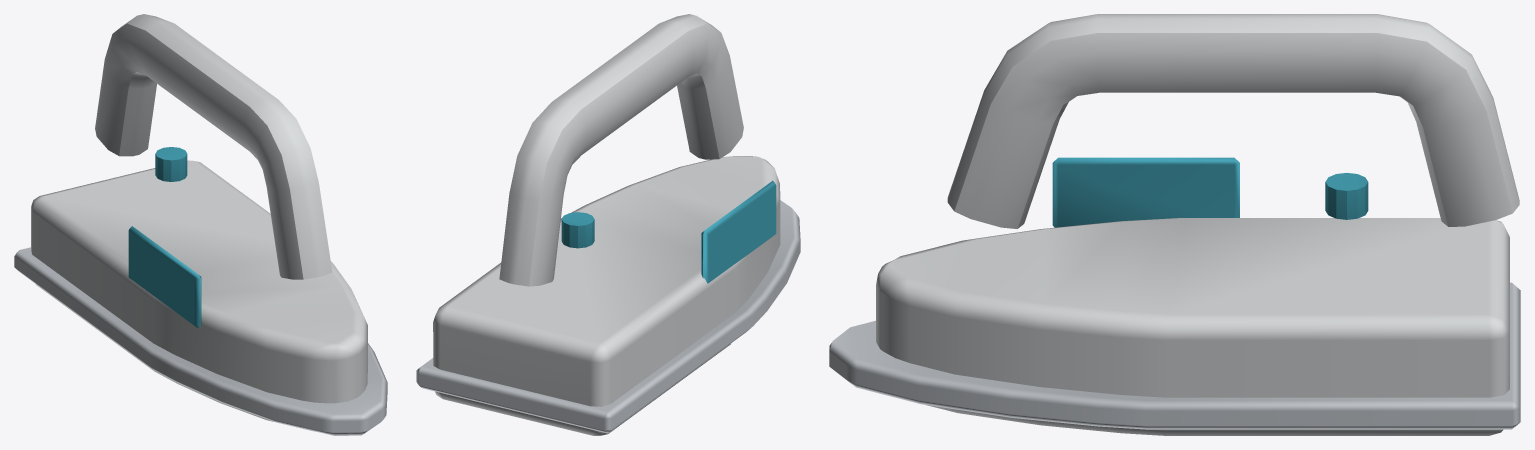
File: iron.glb
3 views of the same model, side by side, from view 1: azimuth 30°, elevation 25°; view 2: azimuth 150°, elevation 25°; view 3: azimuth 270°, elevation 25° (orthographic). The views are drawn at different scales.
Visible parts, largest first — view 1: iron; view 2: iron; view 3: iron.
Part boxes in pixels (left/top/right/bottom): iron: left=14, top=14, right=387, bottom=435; iron: left=416, top=14, right=800, bottom=435; iron: left=829, top=14, right=1520, bottom=435.
Size of the model in its own units: 0.11 by 0.153 by 0.2586.
